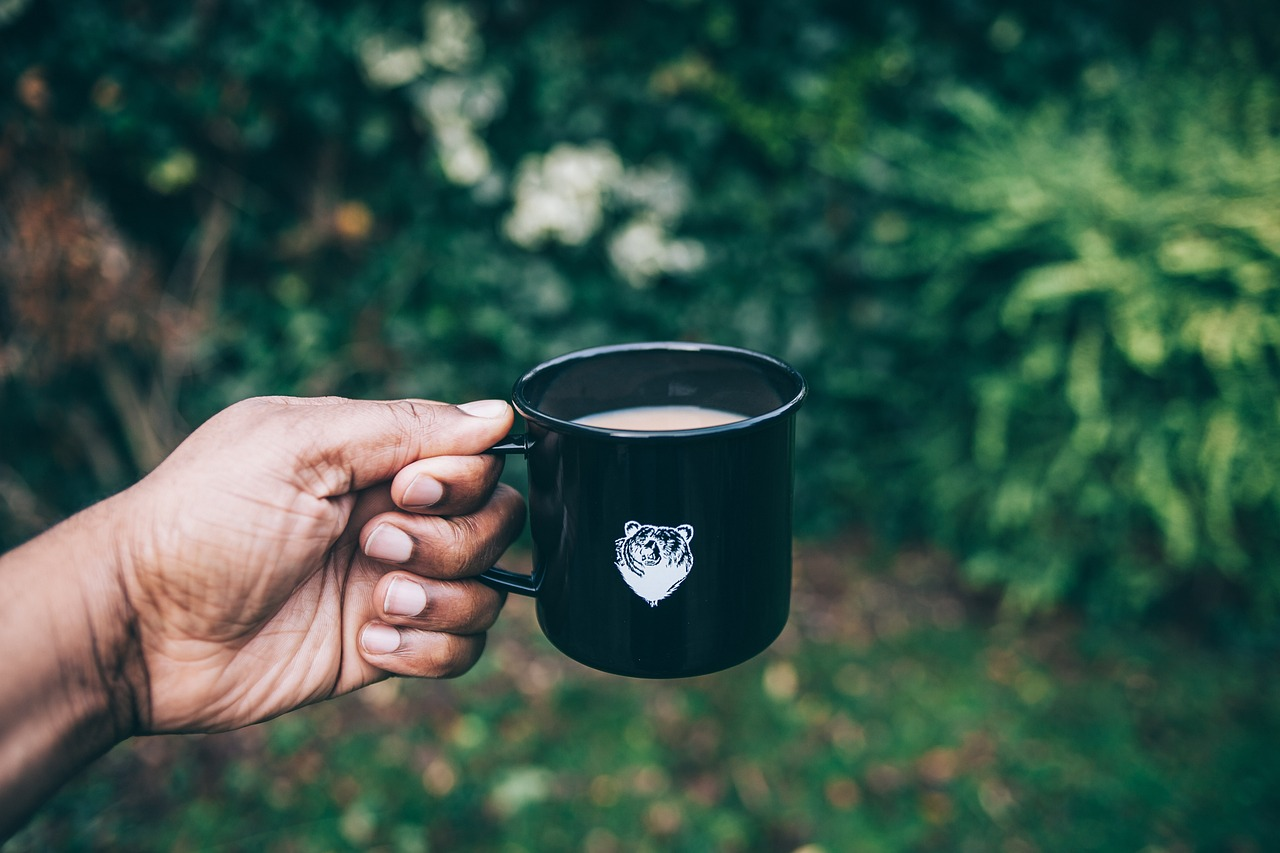mug: (421, 322, 847, 706)
